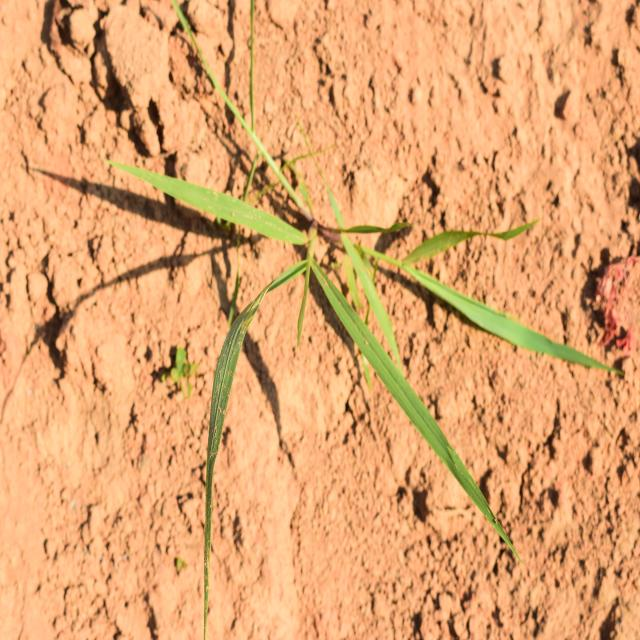green_foxtail: (161, 160, 522, 505)
